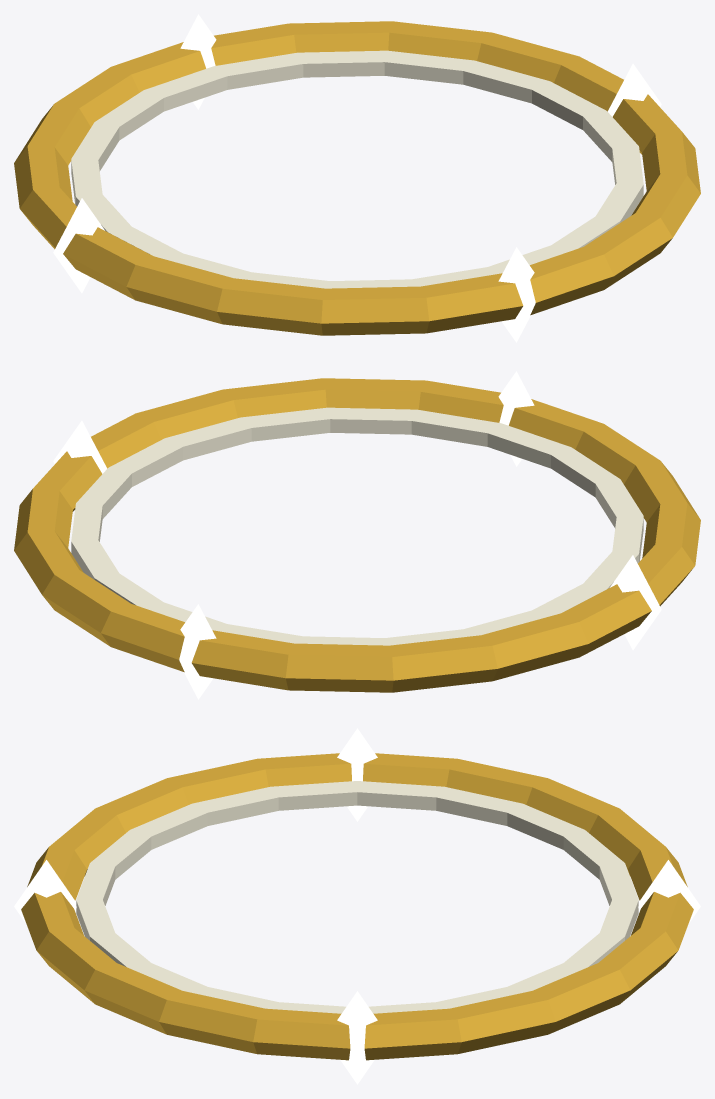
File: Armor_Light_Halo.fbx
3 renders of one model, top to bottom at view 1: azimuth 30°, elevation 25°; view 2: azimuth 150°, elevation 25°; view 3: azimuth 270°, elevation 25°, orthographic. The views are drawn at different scales.
Parts seen in each view (by area): view 1: Armor_Light_Halo; view 2: Armor_Light_Halo; view 3: Armor_Light_Halo.
Part boxes in pixels (bbox=[...]): Armor_Light_Halo: bbox=[14, 14, 700, 342]; Armor_Light_Halo: bbox=[14, 371, 700, 699]; Armor_Light_Halo: bbox=[14, 728, 700, 1084].
Size of the model in its own units: 0.464 by 0.07 by 0.464.
